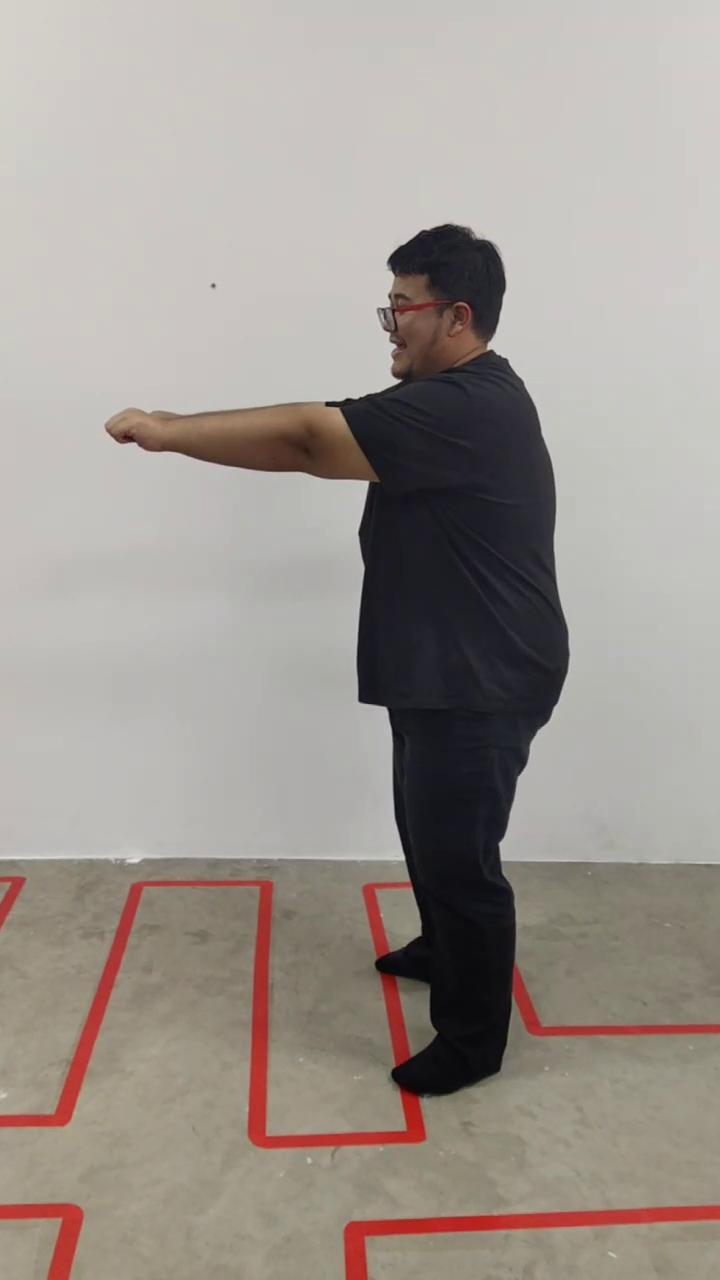squat up: (106, 221, 570, 1098)
